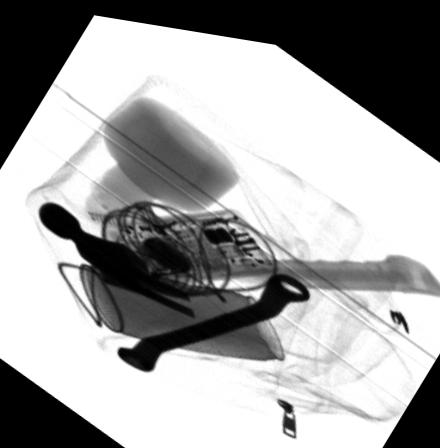Hammer: (37, 200, 440, 310)
Wrench: (117, 263, 308, 367)
